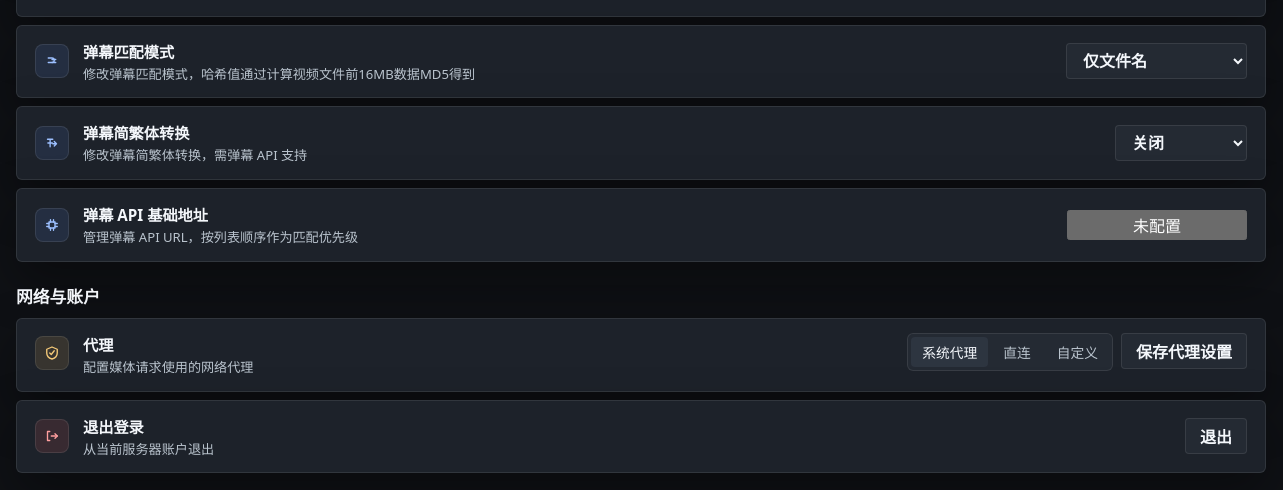
Test: SettingsPage › selecting custom proxy reveals the input
(page scrolled)
Click the radio button with aria-label "Custom proxy": point(1077, 352) [1057,343,1098,362]
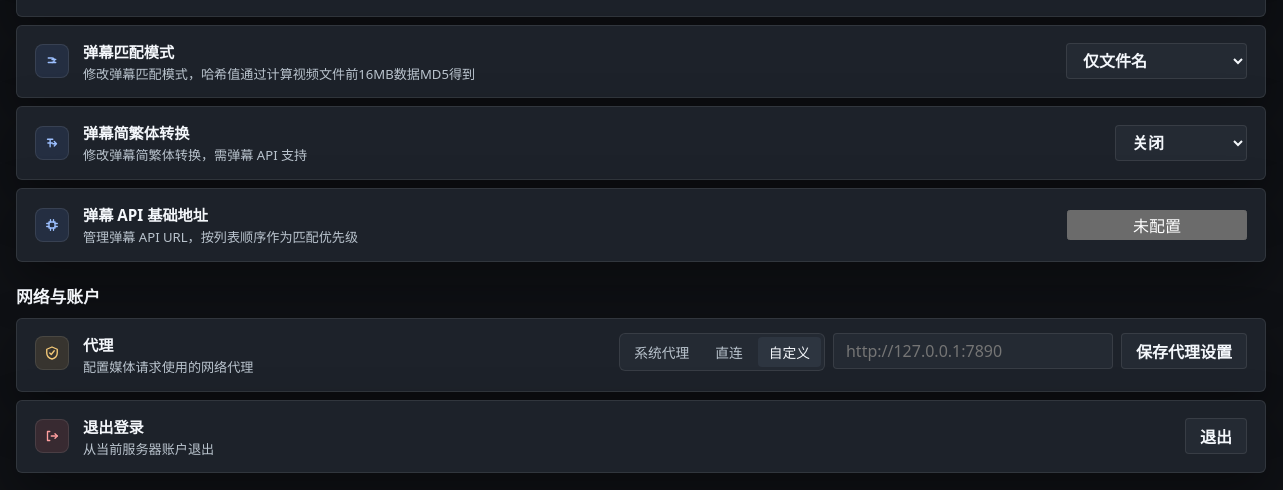
Expected: the field named "Custom proxy URL" is shown, [833,333,1113,369]
